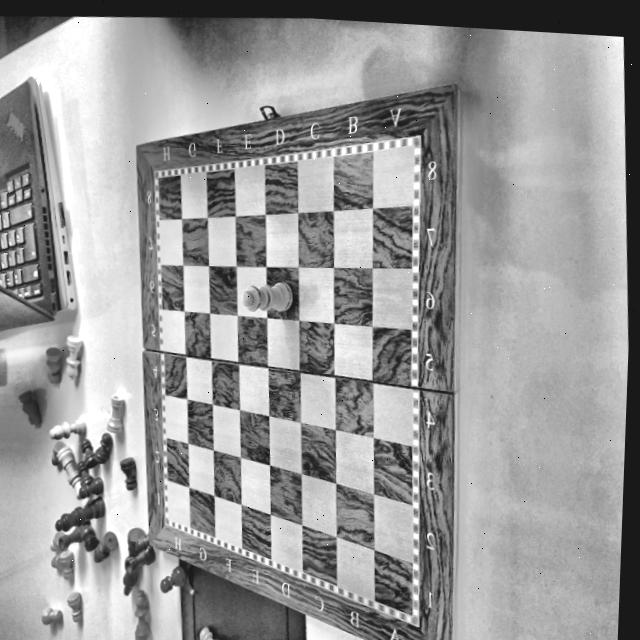white-queen: (237, 277, 298, 322)
